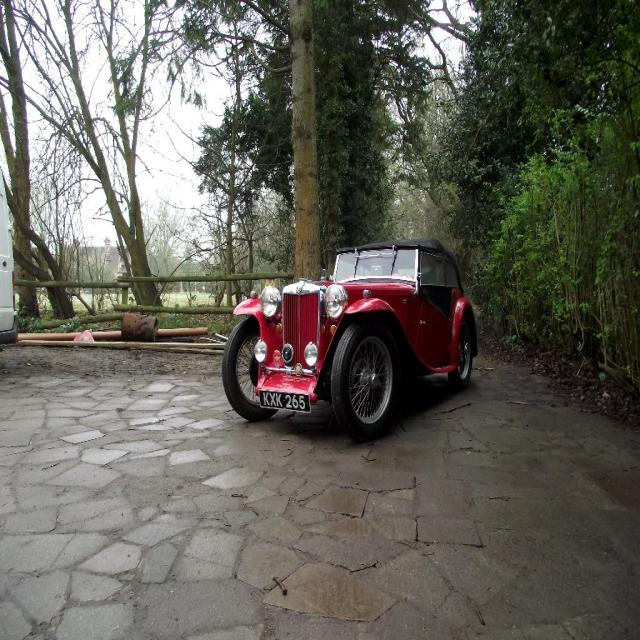car: (220, 234, 487, 437)
